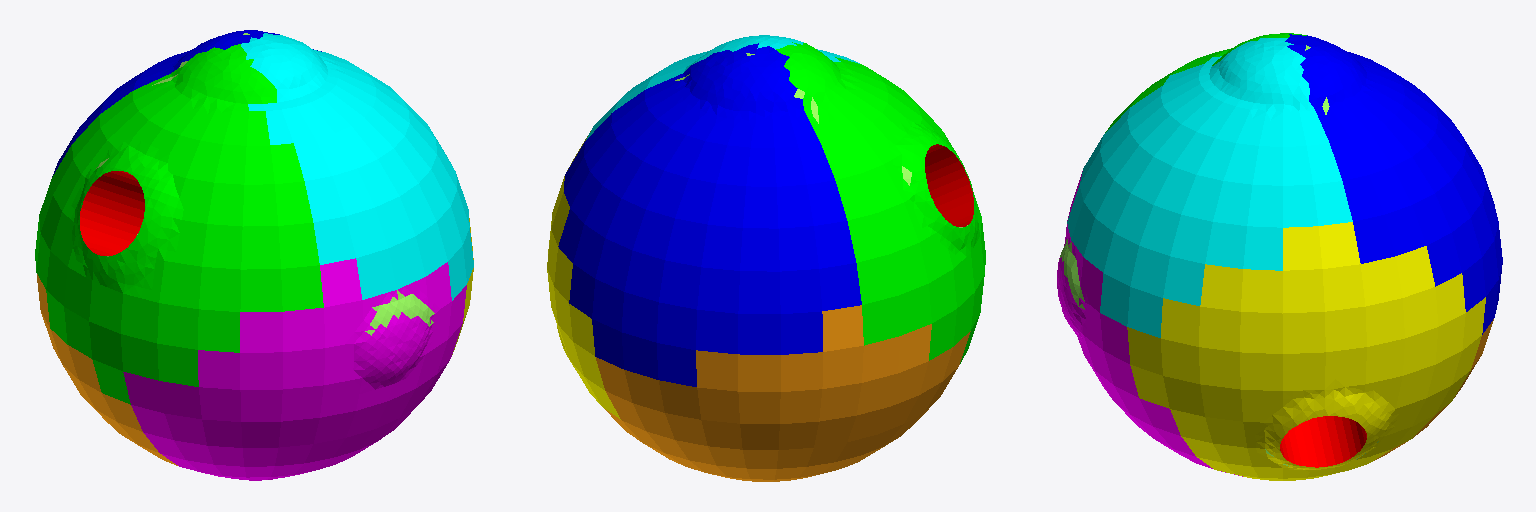
3 renders of one model, left to right at view 1: azimuth 30°, elevation 25°; view 2: azimuth 150°, elevation 25°; view 3: azimuth 270°, elevation 25°, orthographic.
Parts seen in each view (by area): view 1: planet_球; view 2: planet_球; view 3: planet_球.
Boxes of the visible parts, <box> form: planet_球: <box>35,30,473,480</box>; planet_球: <box>547,35,985,481</box>; planet_球: <box>1057,33,1502,480</box>.
Size of the model in its own units: 2 by 2.14 by 2.03.
Materials: 1 (1 with a texture image).